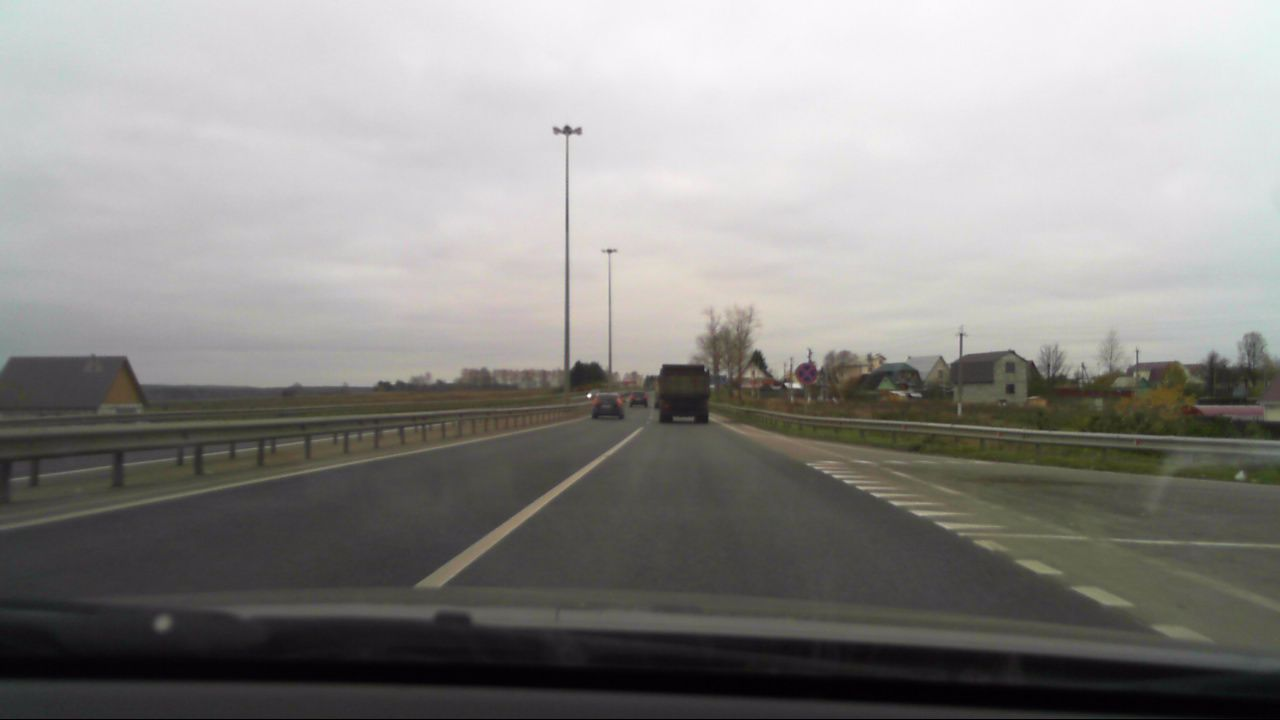No Parking: (793, 361, 816, 383)
